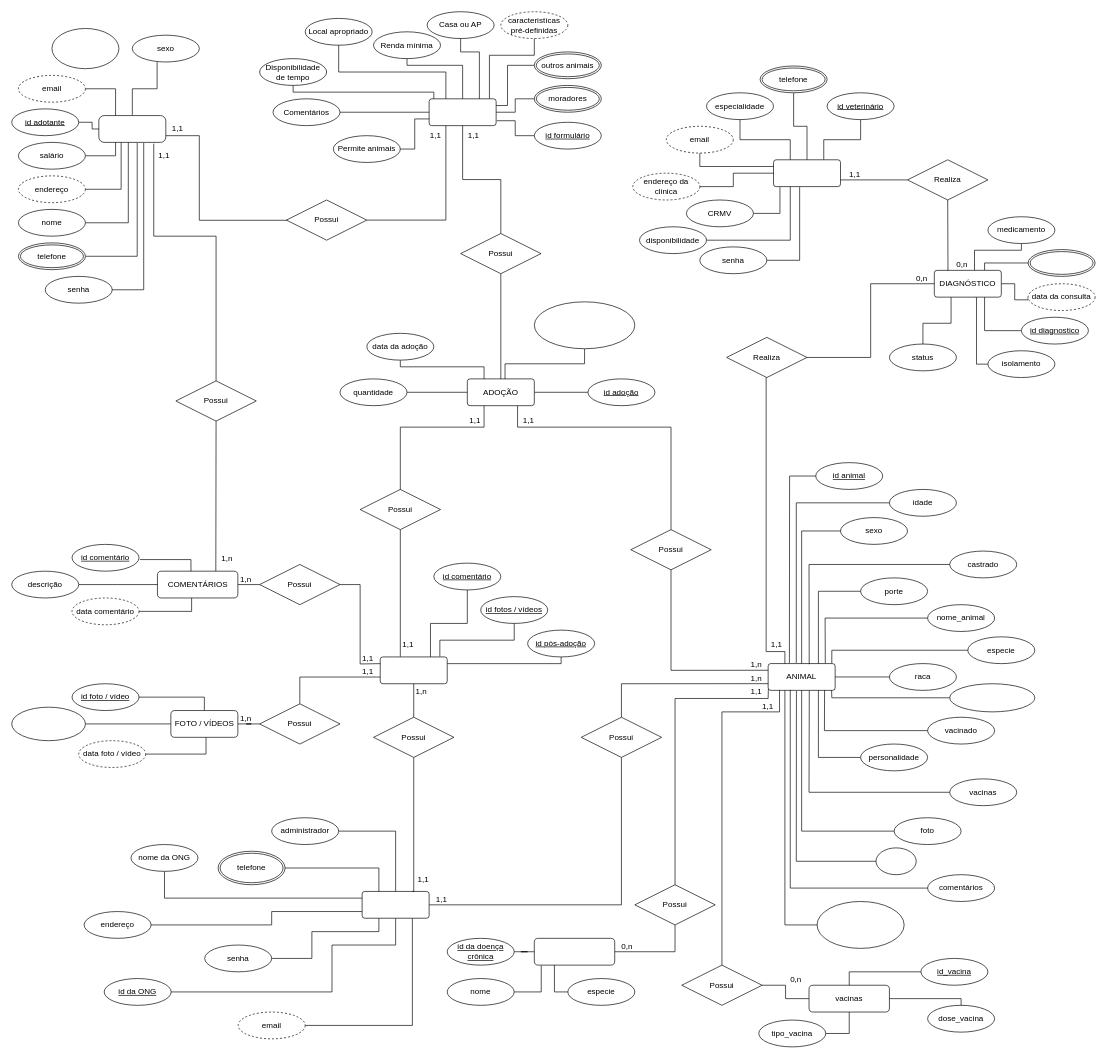
The diagram is 1107 pixels wide and 1059 high, and some of its shapes have lost their labels. Each missing label, with the box of its shape:
ADOTANTE: (98, 115, 166, 142)
cor: (875, 847, 916, 875)
data de nascimento: (51, 28, 119, 69)
data em que o animal foi resgatado: (816, 901, 904, 948)
Doenças Cronicas: (534, 938, 615, 965)
FORMULÁRIO: (428, 98, 496, 126)
imagem ou vídeo: (11, 707, 85, 741)
ONG: (361, 891, 429, 918)
precisa_tratamento: (949, 683, 1035, 712)
PÓS-ADOÇÃO: (380, 656, 447, 684)
termo de comprometimenho e responsabilidade: (534, 301, 635, 349)
tratamento: (1027, 249, 1095, 276)
VETERINÁRIO: (773, 159, 841, 187)
